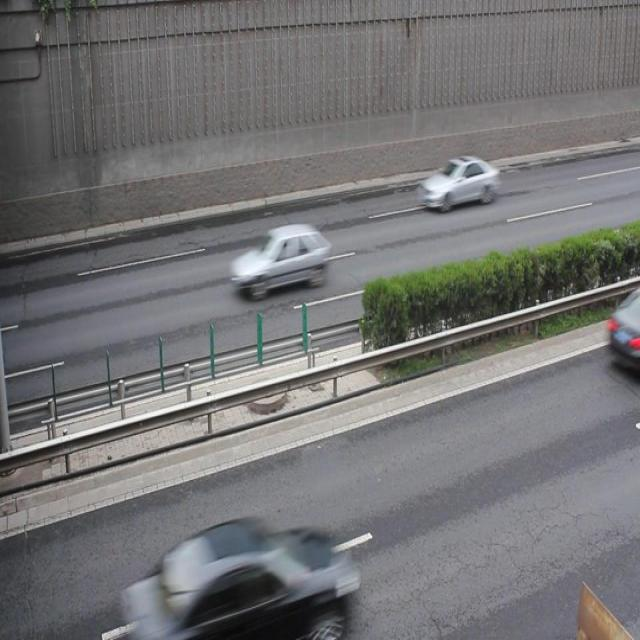car: (122, 514, 352, 640), (229, 221, 330, 297), (417, 151, 499, 210)
